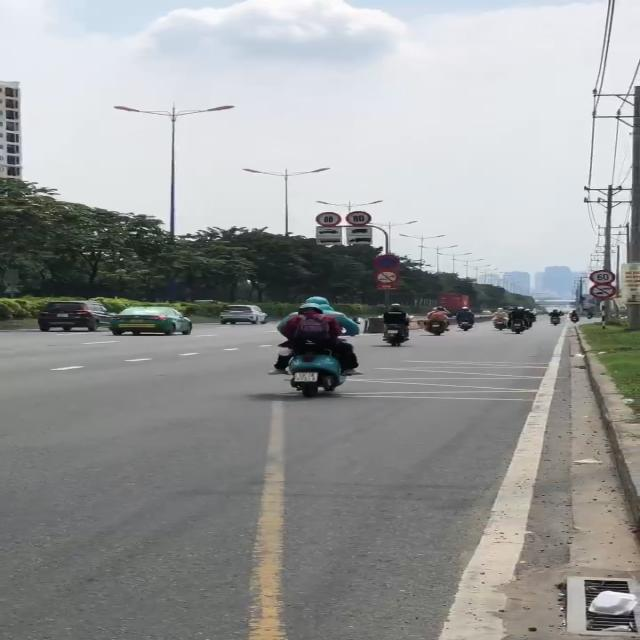Bien bao toc do toi da cho phep: (343, 210, 380, 226), (589, 268, 619, 284), (314, 211, 341, 226)
